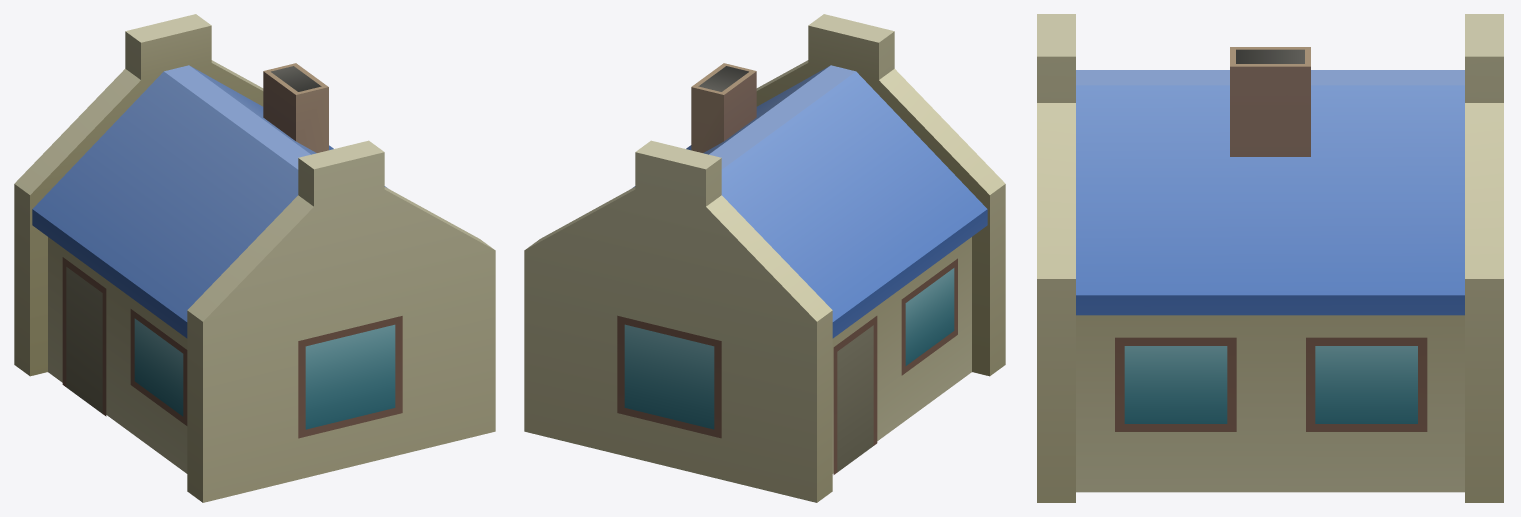
Rendered from House_M_C.fbx.
The picture shows the model from 3 angles, left to right: view 1: azimuth 30°, elevation 25°; view 2: azimuth 150°, elevation 25°; view 3: azimuth 270°, elevation 25°; orthographic projection. The views are drawn at different scales.
Parts seen in each view (by area): view 1: House_M_C; view 2: House_M_C; view 3: House_M_C.
Boxes of the visible parts, x1,y1,x2,y2 form: House_M_C: (14, 14, 495, 502); House_M_C: (524, 14, 1005, 502); House_M_C: (1037, 14, 1503, 502).
Bounding box in the file's own units: 736 × 743 × 832.
